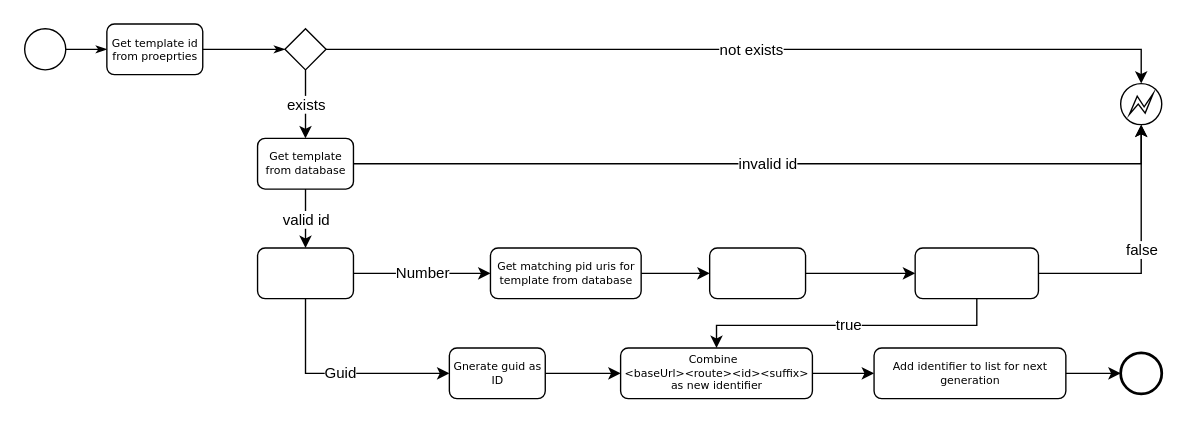
Some shapes in this 1186 by 423 pixel diagram are drawn without their labels. Here are the shapes that lost their labels. From the top down, the centre of each, then its label:
At [304,273]: "Check id type".
At [757,273]: "Get next free number as id".
At [976,273]: "check if next free number is within id length".
